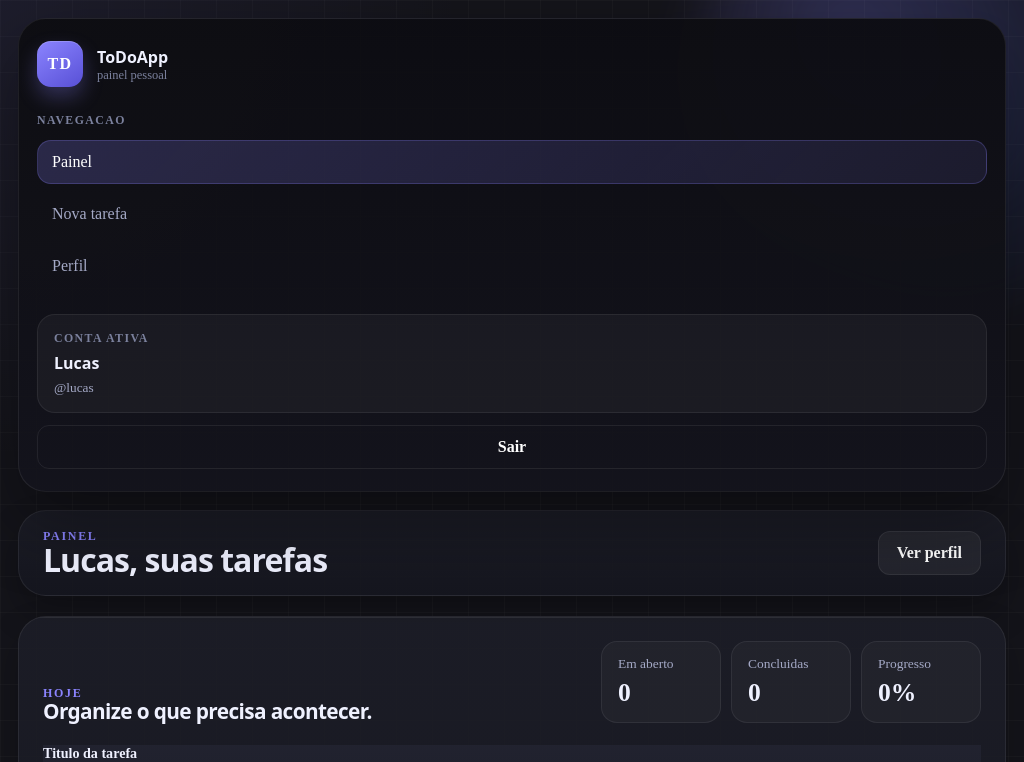
Test: App smoke flows › logs out an authenticated user and returns to the home page
Check: the heading "Lucas, suas tarefas" is shown, box top-left (43, 544), bottom-right (327, 577)
What coordinates should you click on to do the following:
click the button "Sair"
I would click on:
 (512, 447)
Its box is top-left (37, 425), bottom-right (987, 469).
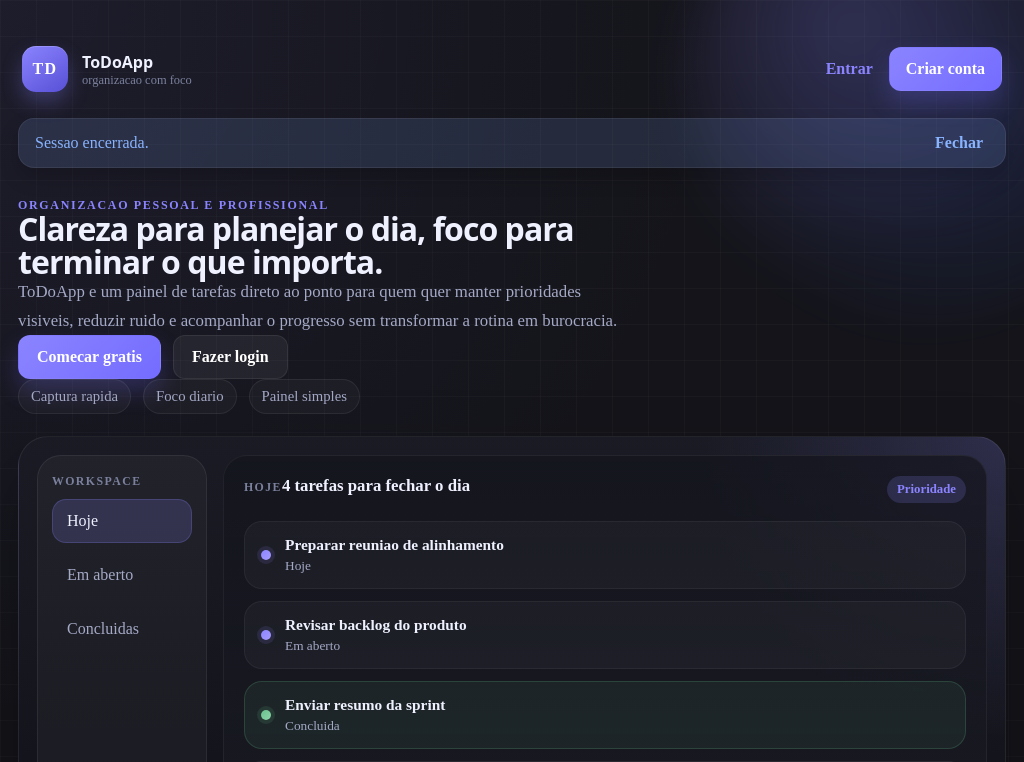
Check: the heading "Clareza para planejar o dia" is shown, box top-left (18, 207), bottom-right (574, 283)
